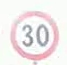limite 30: (8, 10, 60, 61)
